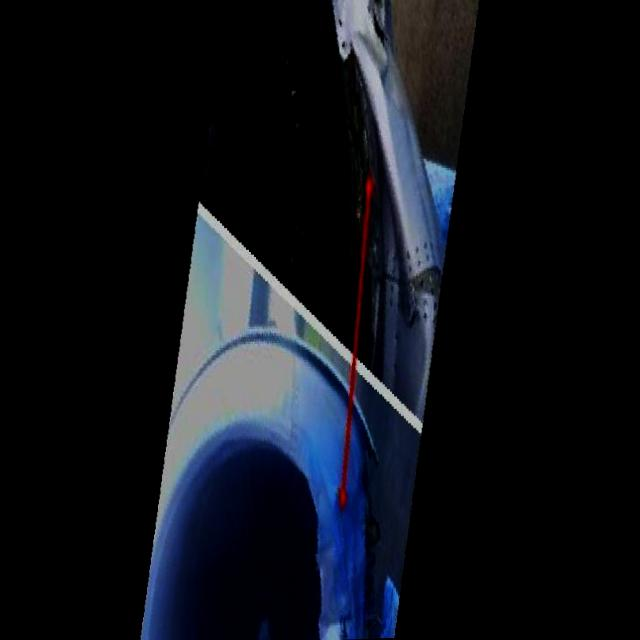dent: (332, 487, 369, 582), (357, 8, 385, 84)
